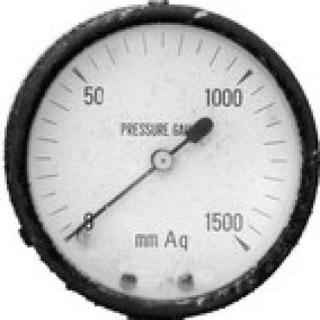gauge: (1, 0, 320, 320), (55, 218, 91, 251), (218, 221, 251, 251), (148, 148, 176, 175), (58, 224, 85, 247)
